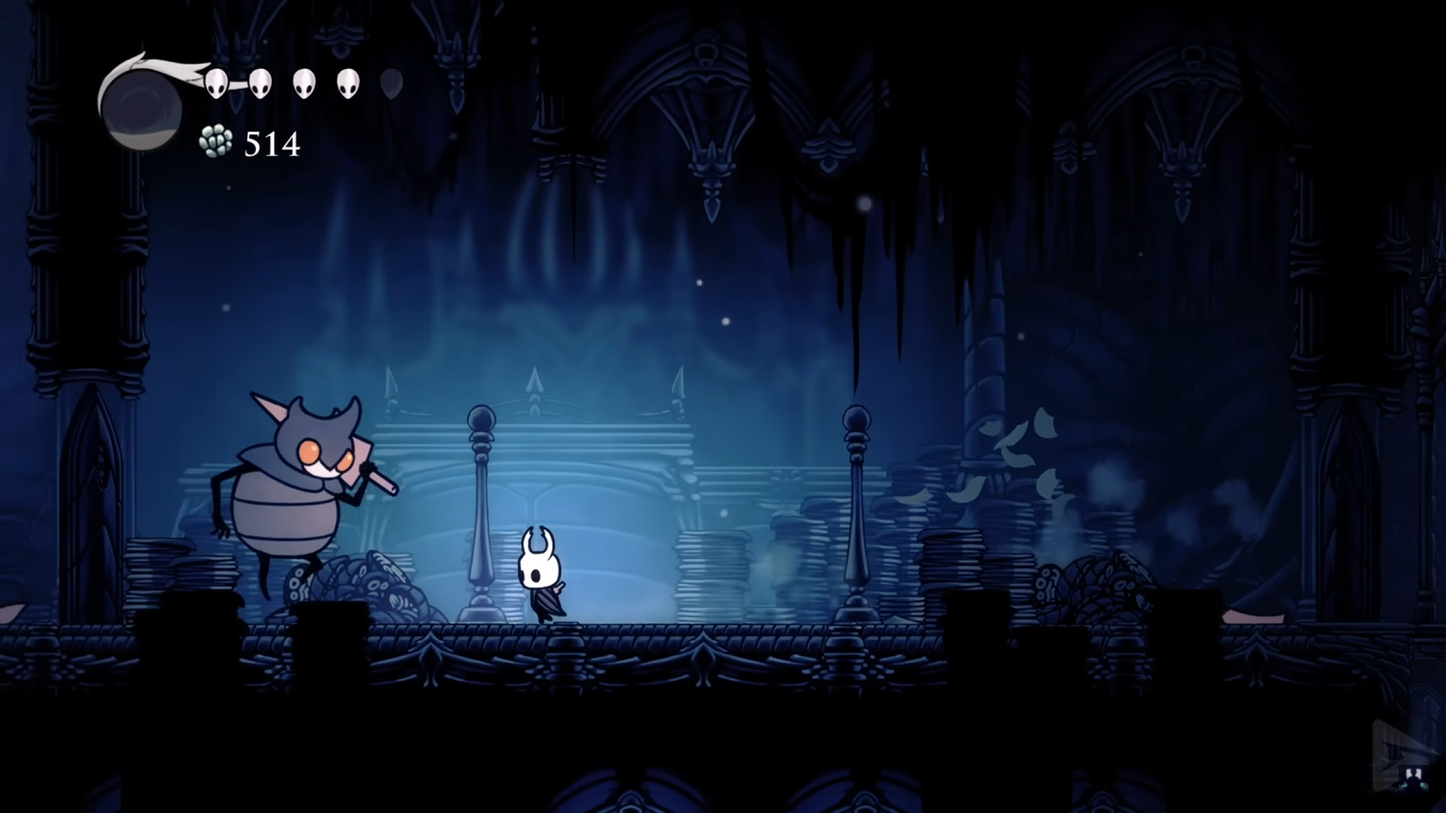HK: (513, 524, 573, 624)
